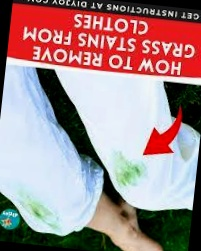earth: (117, 162, 140, 184), (26, 203, 51, 221)
